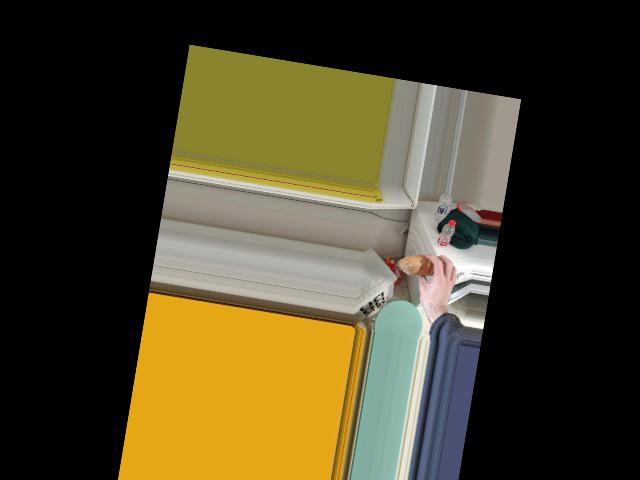sweet_potato: (406, 254, 443, 284)
